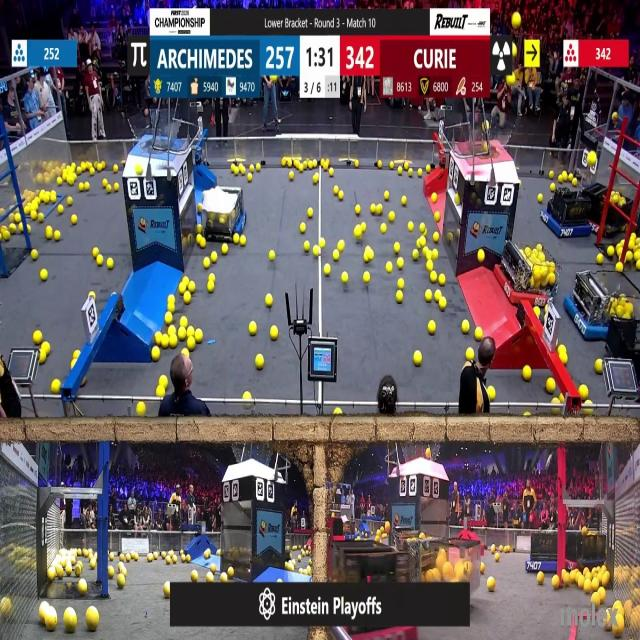ball_airborne: (514, 12, 522, 27), (589, 151, 597, 165), (483, 142, 490, 156), (506, 74, 514, 86), (425, 448, 431, 459), (513, 44, 518, 56), (611, 112, 617, 120)
ball_ground: (65, 611, 77, 634), (88, 610, 100, 632), (44, 613, 56, 632), (39, 602, 47, 624), (559, 347, 568, 364), (34, 332, 43, 346), (137, 404, 146, 418), (545, 379, 554, 393), (50, 380, 59, 394), (256, 354, 264, 369), (524, 365, 532, 380), (582, 577, 590, 592), (151, 347, 159, 361), (414, 352, 422, 366), (595, 359, 603, 373), (78, 581, 86, 595), (488, 386, 496, 400), (578, 385, 586, 399), (165, 584, 172, 599), (466, 348, 474, 361), (461, 321, 469, 334), (488, 579, 496, 592), (249, 321, 256, 335), (271, 326, 278, 340), (166, 314, 174, 326), (354, 228, 362, 240), (553, 576, 561, 588), (186, 339, 194, 351), (178, 327, 186, 339), (170, 338, 178, 350), (478, 250, 486, 262), (267, 293, 274, 306), (194, 328, 201, 341), (428, 321, 435, 334), (117, 574, 124, 587), (562, 571, 569, 584), (1, 232, 10, 242), (426, 261, 434, 272), (536, 572, 544, 583), (440, 300, 448, 311), (179, 316, 187, 327), (40, 270, 47, 282), (339, 240, 346, 252), (474, 327, 481, 339), (413, 249, 420, 261), (39, 352, 46, 364), (163, 336, 170, 348), (627, 250, 634, 262), (206, 572, 214, 582), (106, 258, 114, 268), (168, 304, 176, 314), (186, 327, 194, 337), (158, 386, 166, 396), (41, 343, 49, 353), (183, 291, 190, 302), (323, 266, 330, 277), (161, 377, 168, 388), (342, 273, 349, 284), (204, 257, 211, 268), (418, 238, 425, 249), (423, 248, 430, 259), (188, 282, 195, 293), (429, 273, 436, 284), (270, 250, 277, 261), (615, 245, 622, 256), (396, 290, 402, 302), (155, 334, 161, 346), (426, 290, 432, 302), (45, 228, 51, 240), (397, 257, 403, 269), (50, 190, 56, 202), (386, 264, 393, 274), (108, 567, 115, 577), (596, 254, 603, 264), (434, 290, 441, 300), (91, 560, 98, 570), (334, 250, 341, 260), (93, 247, 100, 257), (234, 236, 241, 246), (220, 572, 227, 582), (37, 212, 44, 222), (73, 350, 80, 360), (322, 162, 329, 172), (363, 273, 369, 284), (208, 282, 214, 293), (221, 244, 227, 255), (240, 236, 246, 247), (440, 275, 446, 286), (191, 570, 197, 581), (179, 283, 185, 294), (194, 235, 200, 246), (634, 250, 640, 261), (244, 392, 251, 401), (169, 325, 176, 334), (331, 185, 338, 194), (32, 250, 38, 260), (299, 222, 305, 232), (420, 222, 426, 232), (98, 256, 104, 266), (314, 246, 320, 256), (397, 280, 403, 290), (55, 232, 61, 242), (618, 264, 624, 274), (83, 184, 89, 194), (211, 252, 217, 262), (607, 246, 613, 256), (227, 568, 233, 578), (195, 223, 201, 233), (10, 222, 16, 232), (68, 176, 74, 186), (394, 243, 399, 254), (305, 242, 310, 253), (432, 249, 437, 260), (364, 251, 369, 262), (71, 215, 77, 224), (432, 234, 438, 243), (400, 197, 406, 206), (384, 190, 390, 199), (381, 223, 387, 232), (369, 205, 375, 214), (377, 205, 383, 214), (17, 223, 23, 232), (211, 564, 217, 573), (229, 163, 235, 172), (558, 174, 564, 183), (309, 208, 314, 218), (434, 212, 439, 222), (314, 174, 319, 184), (431, 192, 436, 202), (387, 212, 392, 222), (201, 238, 206, 248), (360, 222, 365, 232), (481, 563, 486, 573), (336, 410, 343, 417), (586, 410, 593, 417), (409, 222, 415, 230), (59, 206, 65, 214), (205, 552, 211, 560), (147, 554, 153, 562), (208, 274, 214, 282), (571, 178, 577, 186), (169, 294, 175, 302), (397, 168, 403, 176), (182, 276, 188, 284), (286, 161, 292, 169), (320, 240, 325, 249), (68, 198, 73, 207), (551, 186, 556, 195), (241, 167, 246, 176), (495, 554, 500, 563), (14, 214, 19, 223), (234, 167, 239, 176), (106, 185, 112, 192), (25, 208, 31, 215), (340, 190, 345, 198), (418, 170, 423, 178), (328, 169, 333, 177), (426, 166, 431, 174), (101, 180, 106, 188), (79, 182, 84, 190), (449, 234, 454, 242), (91, 168, 96, 176), (32, 212, 37, 220), (58, 177, 63, 185), (378, 162, 383, 170), (491, 544, 496, 552), (121, 568, 126, 576), (629, 239, 634, 247), (547, 172, 553, 178), (276, 577, 282, 583), (636, 263, 640, 272), (113, 166, 118, 173), (91, 290, 96, 297), (354, 162, 359, 169), (631, 233, 636, 240), (409, 170, 414, 177), (255, 165, 260, 172), (249, 166, 254, 173), (118, 555, 123, 562), (284, 562, 289, 569), (163, 553, 168, 560), (298, 166, 303, 173), (356, 206, 360, 214), (538, 193, 542, 201), (248, 174, 252, 182), (114, 183, 118, 191), (289, 172, 293, 180), (186, 555, 190, 563), (28, 224, 32, 232), (406, 161, 410, 169), (560, 394, 564, 402), (167, 558, 172, 564), (553, 398, 558, 404), (298, 568, 303, 574), (388, 161, 392, 168), (282, 161, 286, 168), (217, 551, 221, 557), (100, 162, 104, 168), (296, 556, 300, 562)
goal: (461, 121, 518, 159), (128, 115, 186, 152)
robot_blue: (567, 274, 612, 342), (197, 184, 245, 243), (542, 183, 592, 239), (526, 532, 558, 574)
robot_red: (333, 548, 417, 640), (506, 244, 558, 310), (564, 531, 604, 572)
